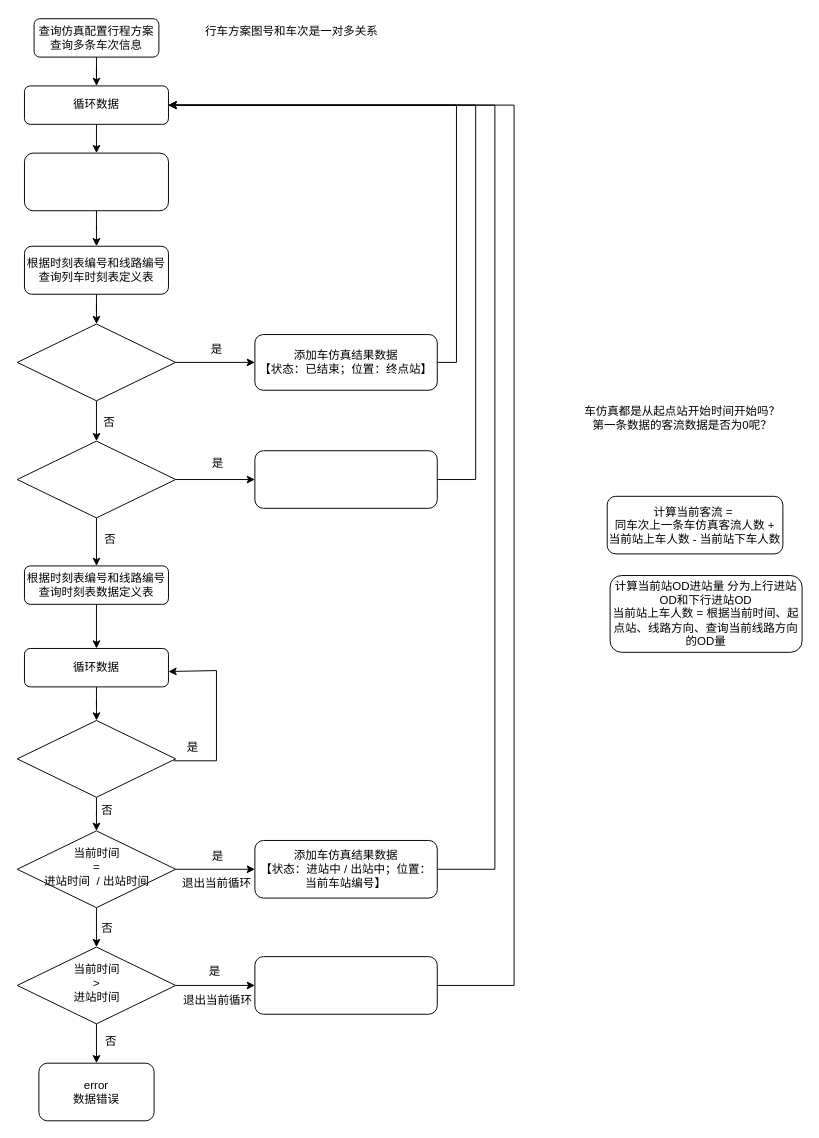
The diagram is 819 pixels wide and 1138 high, and some of its shapes have lost their labels. The box of each missing label's shape, as (x1, y1, x2, y2) in pixels:
当前时间 < 开始时间: (16, 440, 176, 518)
当前时间 > 出站时间: (16, 720, 176, 797)
当前时间 >= 结束时间: (16, 323, 176, 401)
根据车次 查询时刻表定义与车次关联关系表: (24, 152, 168, 211)
添加车仿真结果数据 【状态：未开始；位置：起点站】: (254, 450, 437, 508)
添加车仿真结果数据 【状态：运行中；位置：区间（前车站编号 -> 当前车站编号）】: (254, 956, 437, 1014)
